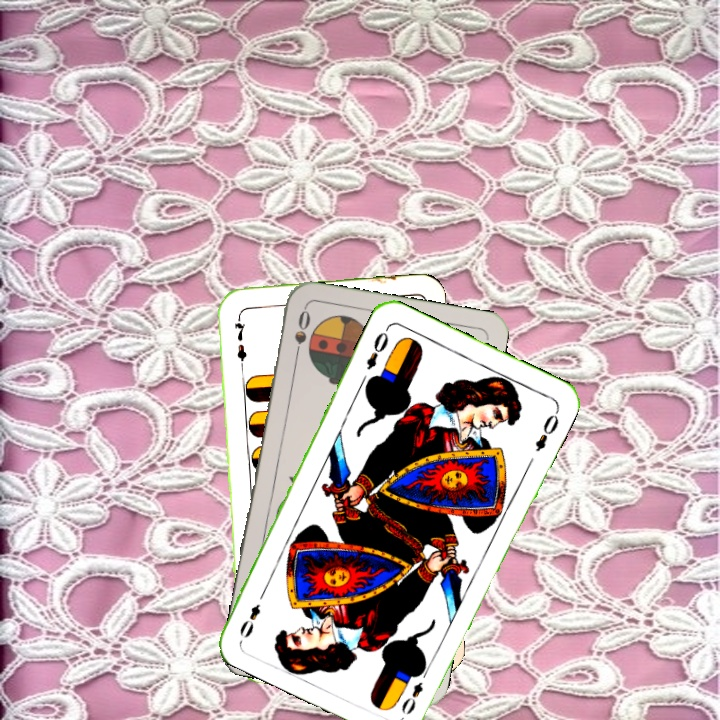E7: (230, 309, 250, 368)
EO: (397, 663, 432, 717), (362, 323, 392, 373)
SO: (290, 305, 313, 364)
